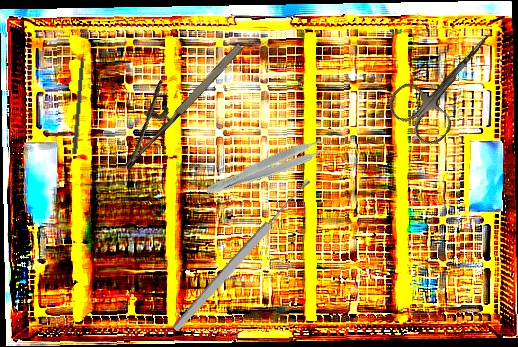Iris Scissors: (381, 11, 518, 151)
Needle Holder: (98, 22, 248, 172)
Pusher: (72, 39, 88, 155)
Surgical Spoon: (170, 176, 314, 334)
Tissue Forceps: (203, 132, 337, 205)
